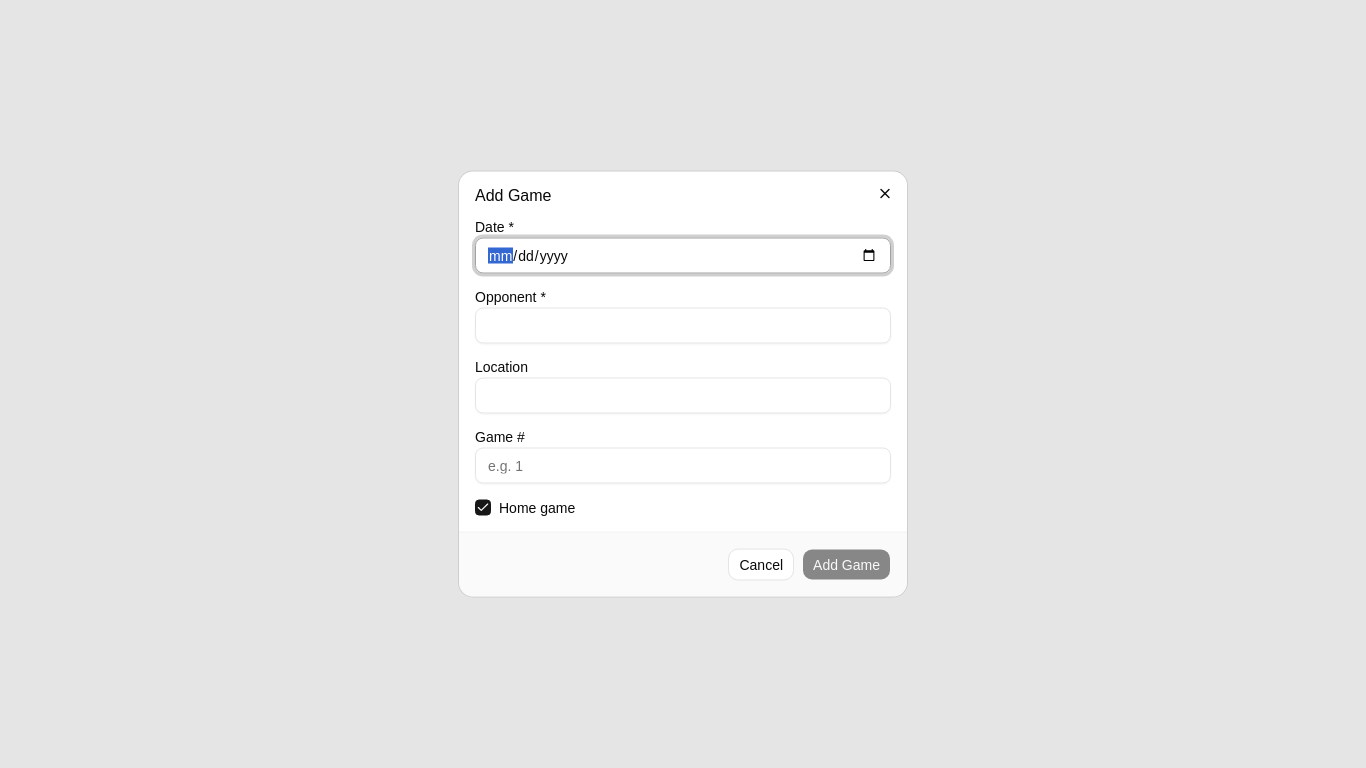
GameDialog — add mode › submit button shows "Saving…" and is disabled during submission
The width and height of the screenshot is (1366, 768).
Type "Cubs" into the field labelled "Opponent *".
click(683, 326); type("Cubs")  # box top-left (475, 308), bottom-right (891, 344)
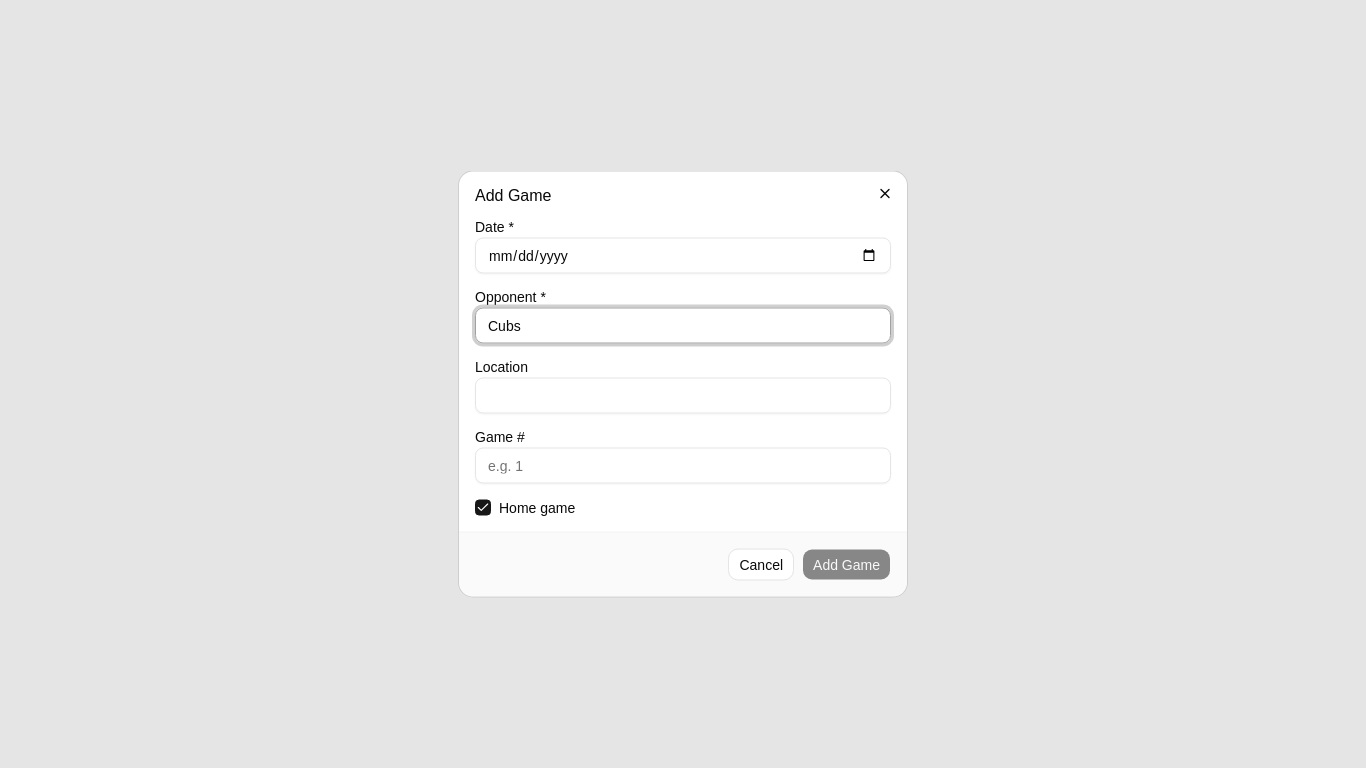
Type "2026-08-01" into the date field labelled "Date *".
click(683, 256); type("2026-08-01")  # box top-left (475, 238), bottom-right (891, 274)
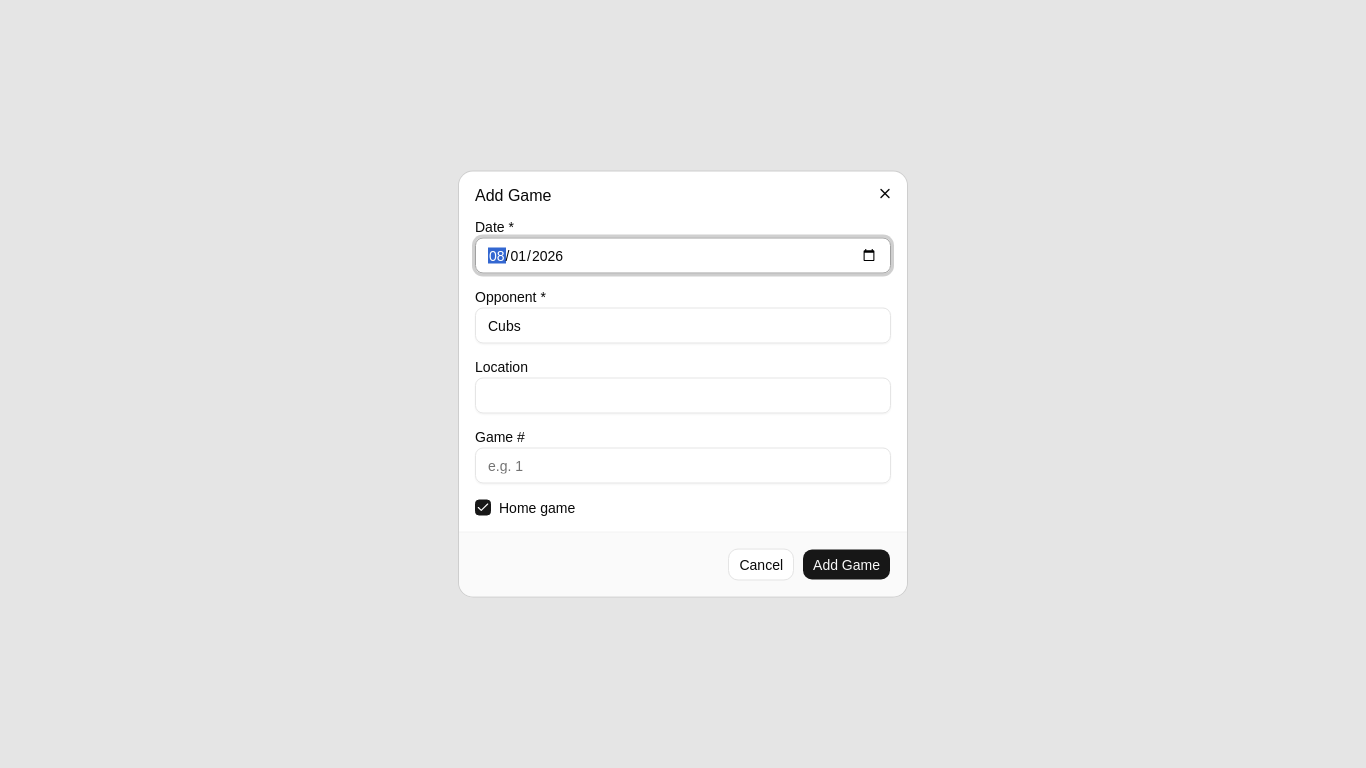
Click the button "Add Game".
click(847, 564)  # box top-left (802, 548), bottom-right (891, 580)
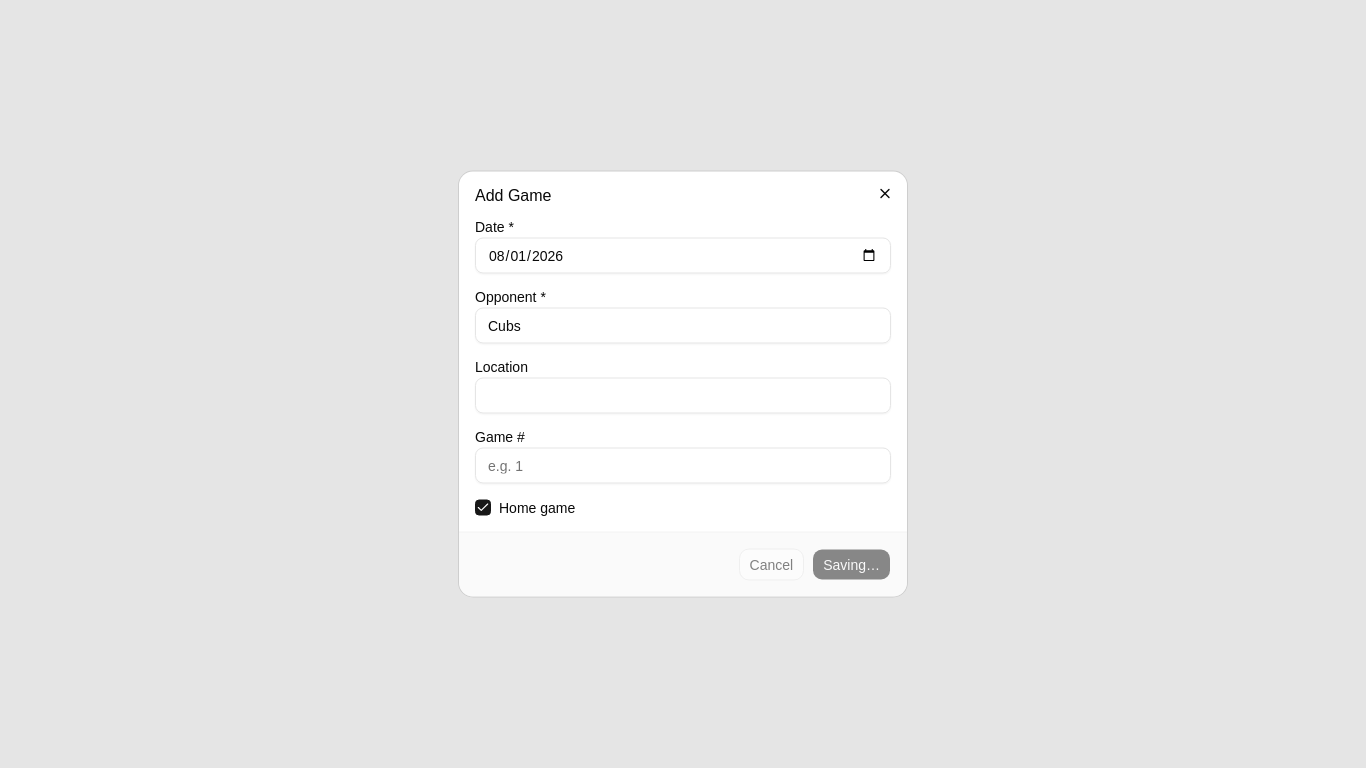
Check: the button "Saving…" is disabled, box top-left (812, 548), bottom-right (891, 580)
Check: the button "Cancel" is disabled, box top-left (739, 548), bottom-right (804, 580)
